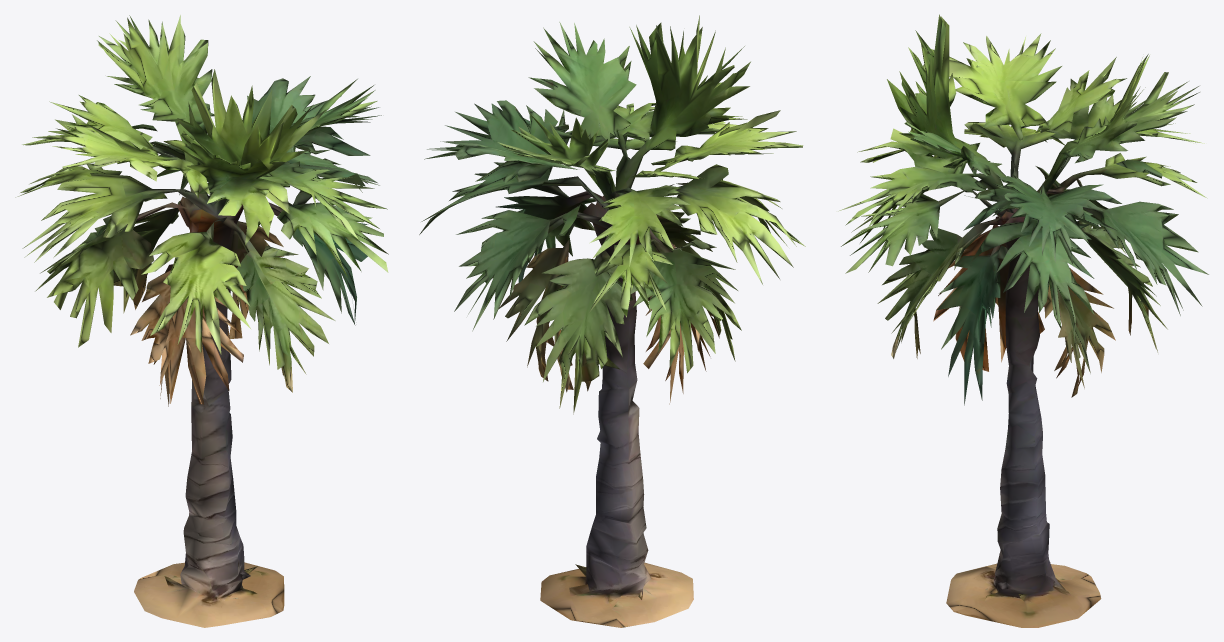
Rendered from tree-palm.glb.
3 views of the same model, side by side, from view 1: azimuth 30°, elevation 25°; view 2: azimuth 150°, elevation 25°; view 3: azimuth 270°, elevation 25° (orthographic).
Parts seen in each view (by area): view 1: tripo_node_e8a3fa86-9100-433b-8412-d989d6f172ff; view 2: tripo_node_e8a3fa86-9100-433b-8412-d989d6f172ff; view 3: tripo_node_e8a3fa86-9100-433b-8412-d989d6f172ff.
Part boxes in pixels (bbox=[...]): tripo_node_e8a3fa86-9100-433b-8412-d989d6f172ff: bbox=[15, 15, 388, 627]; tripo_node_e8a3fa86-9100-433b-8412-d989d6f172ff: bbox=[419, 15, 805, 627]; tripo_node_e8a3fa86-9100-433b-8412-d989d6f172ff: bbox=[838, 14, 1208, 627].
Bounding box in the file's own units: 0.655 × 0.9984 × 0.603.
Materials: 1 (1 with a texture image).
